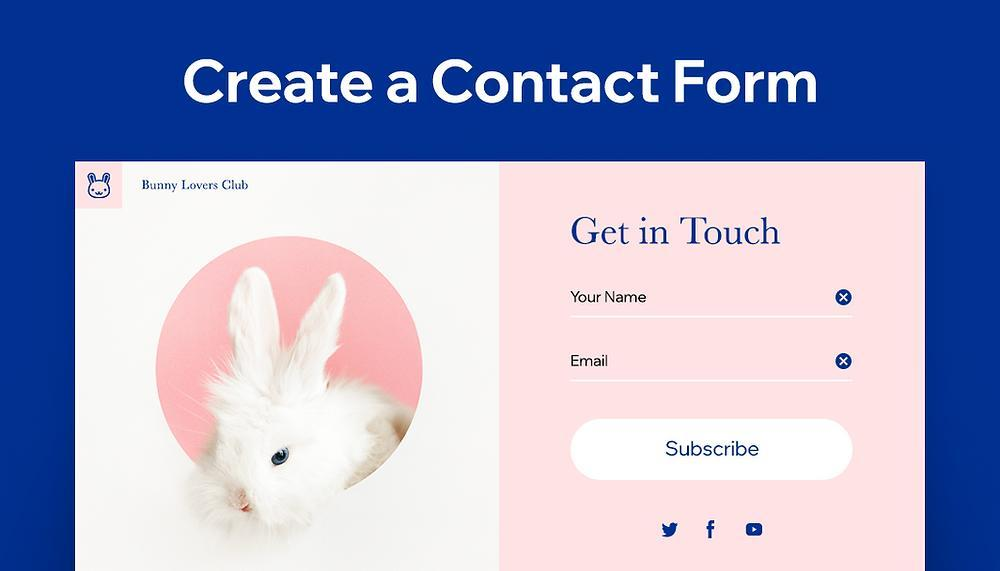button: (575, 418, 856, 482)
icon: (82, 170, 119, 204), (698, 514, 730, 547), (742, 515, 774, 547), (654, 517, 684, 545)
